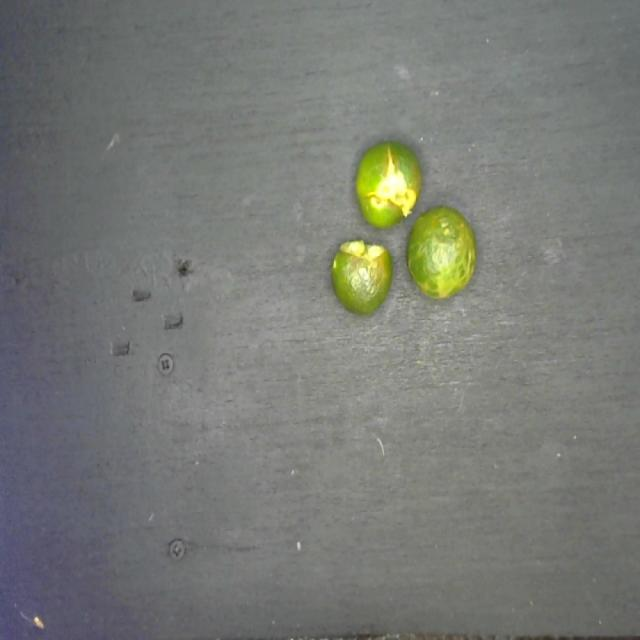biodegradable: (326, 137, 482, 328)
